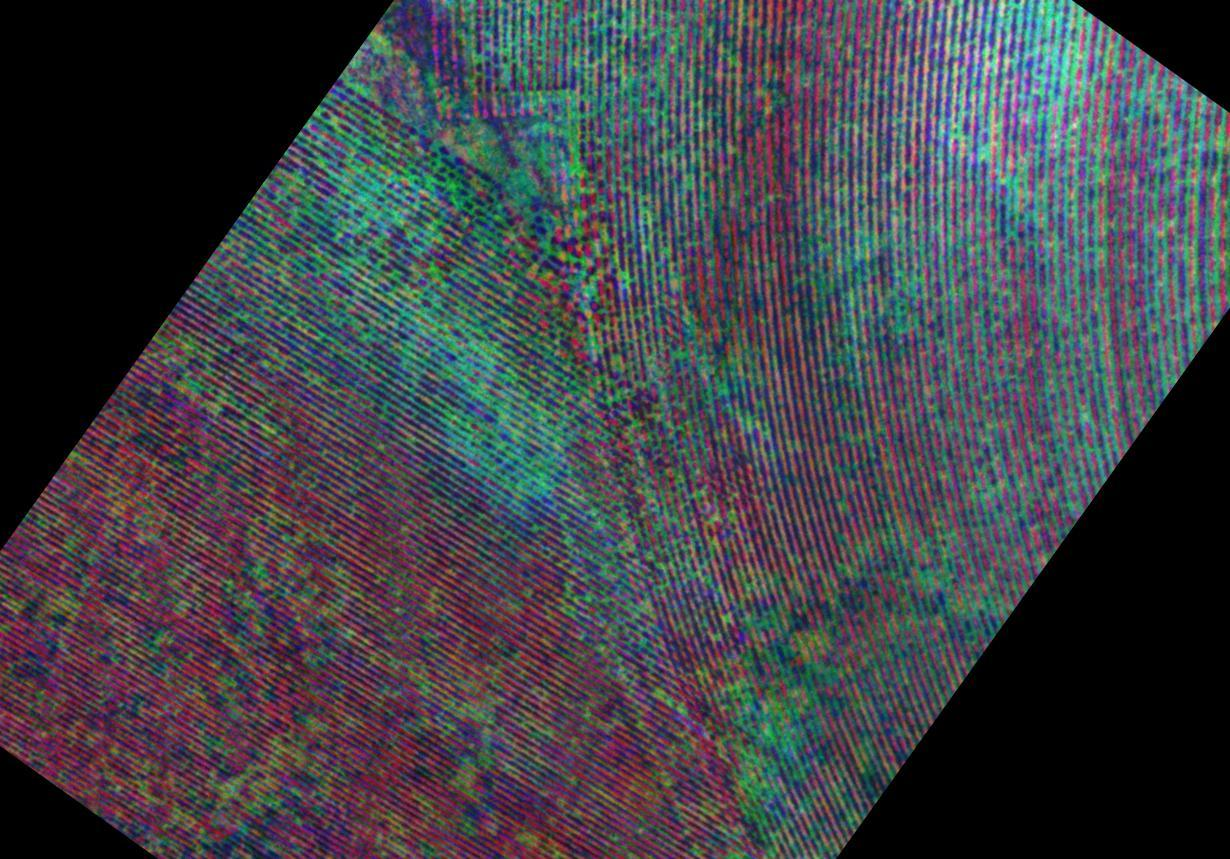dc: (498, 0, 613, 165), (448, 353, 563, 511), (276, 198, 400, 327), (818, 210, 932, 344), (708, 678, 811, 810), (981, 0, 1086, 89)
